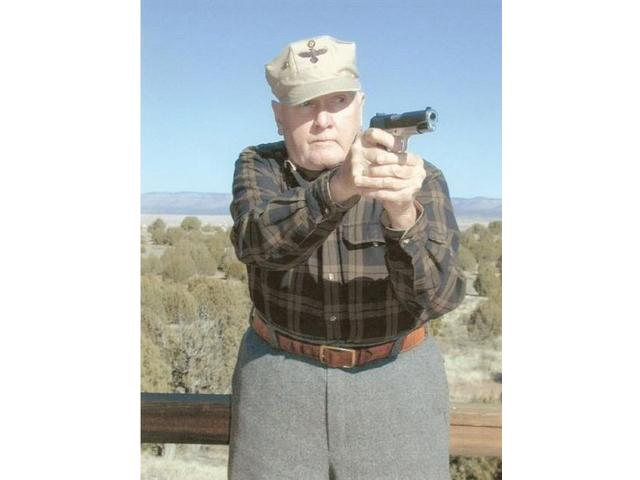pistol: (361, 107, 443, 186)
